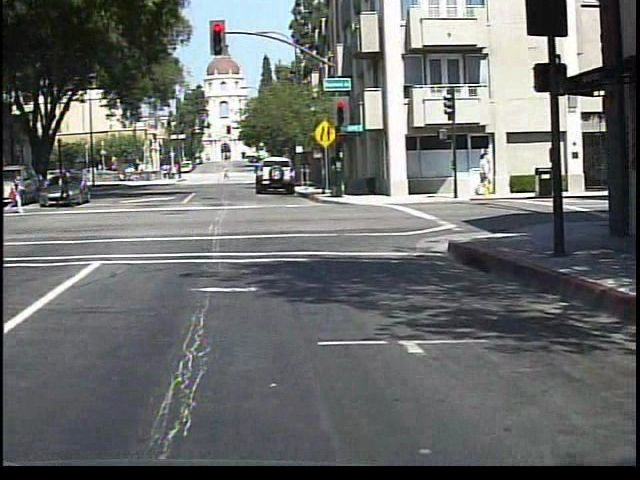person: (6, 168, 31, 220), (56, 166, 80, 210), (225, 165, 236, 183)
